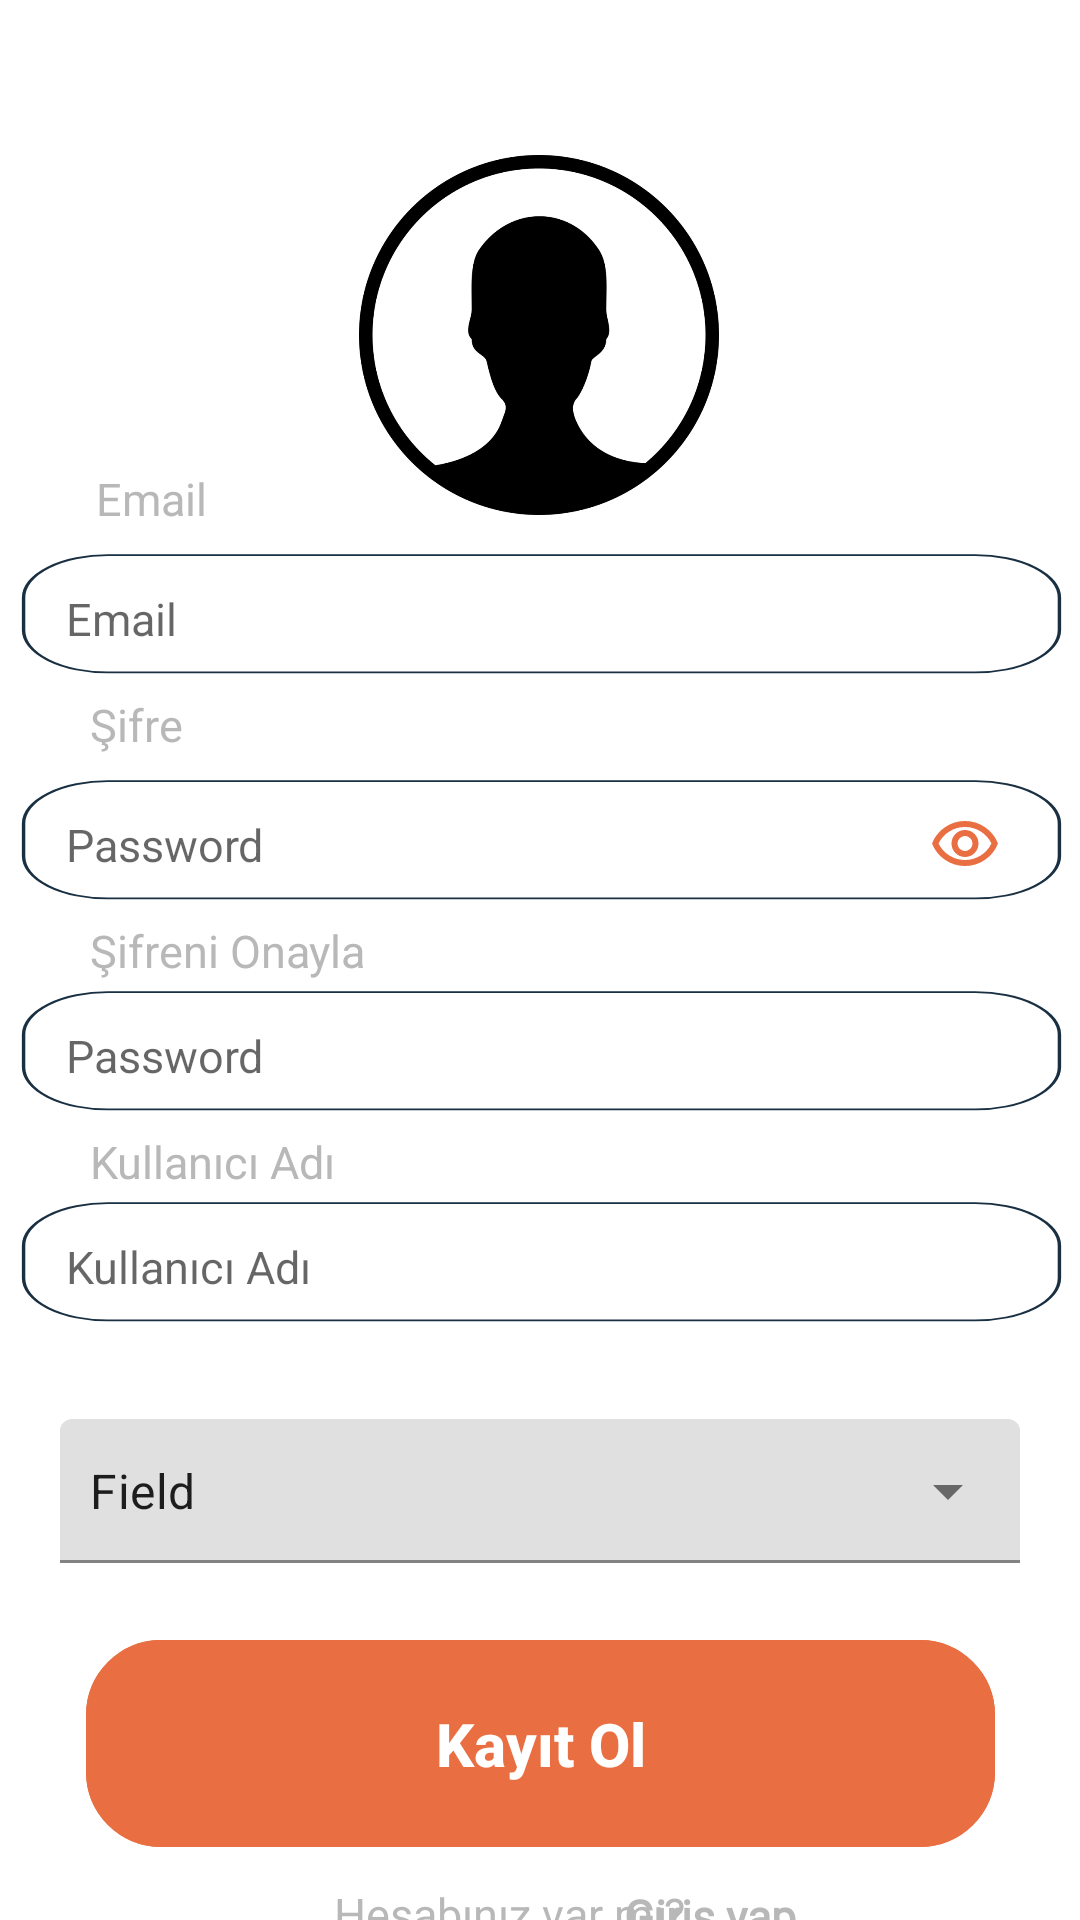

Named icons in this screenshot (1080*1920) and their bounding boxes, (x1, y1, x2, y2):
pofileicon: (359, 155, 719, 515)
visibility: (932, 821, 998, 866)
